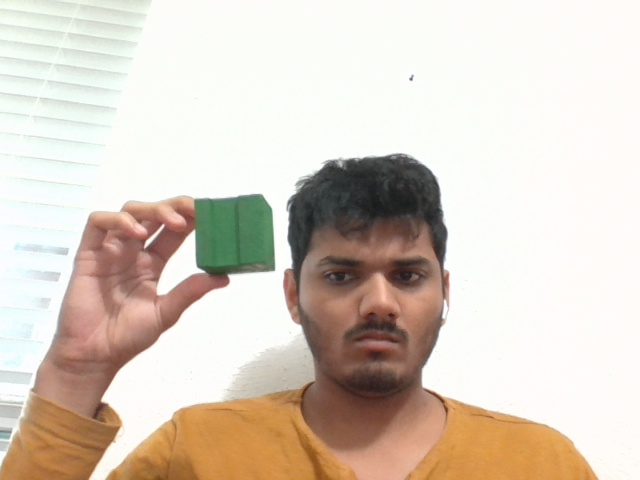GreenBlock: (191, 194, 277, 273)
